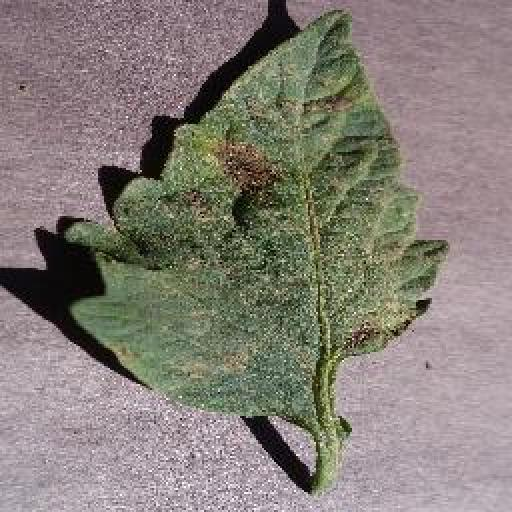Early Blight: (56, 0, 444, 416)
